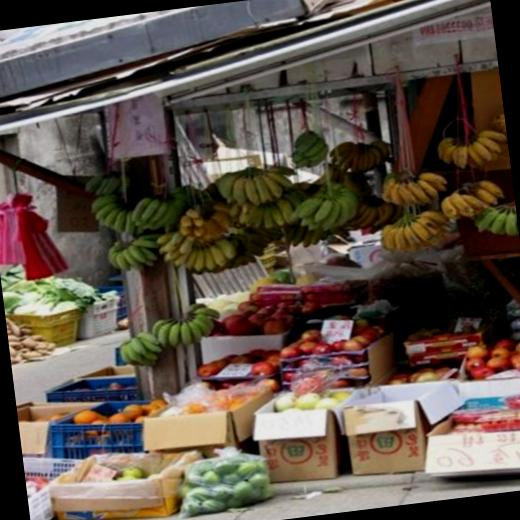Banana: (82, 122, 518, 286), (113, 302, 222, 371), (432, 114, 510, 172), (288, 126, 329, 172), (474, 133, 502, 154)
